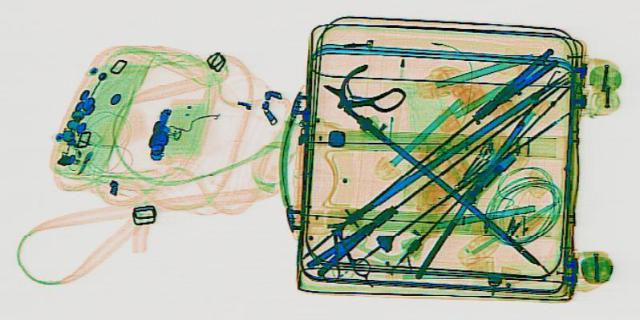Pliers: (463, 46, 571, 120)
Scissors: (308, 226, 374, 280)
